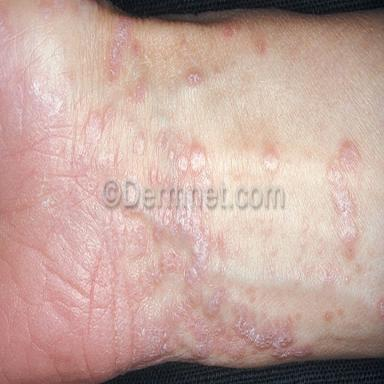lichen: (184, 283, 311, 366), (139, 210, 210, 295), (326, 142, 360, 254), (107, 18, 132, 82), (191, 145, 205, 172), (264, 154, 279, 171), (133, 135, 145, 154), (151, 166, 161, 186), (187, 73, 202, 85), (178, 154, 188, 171)
